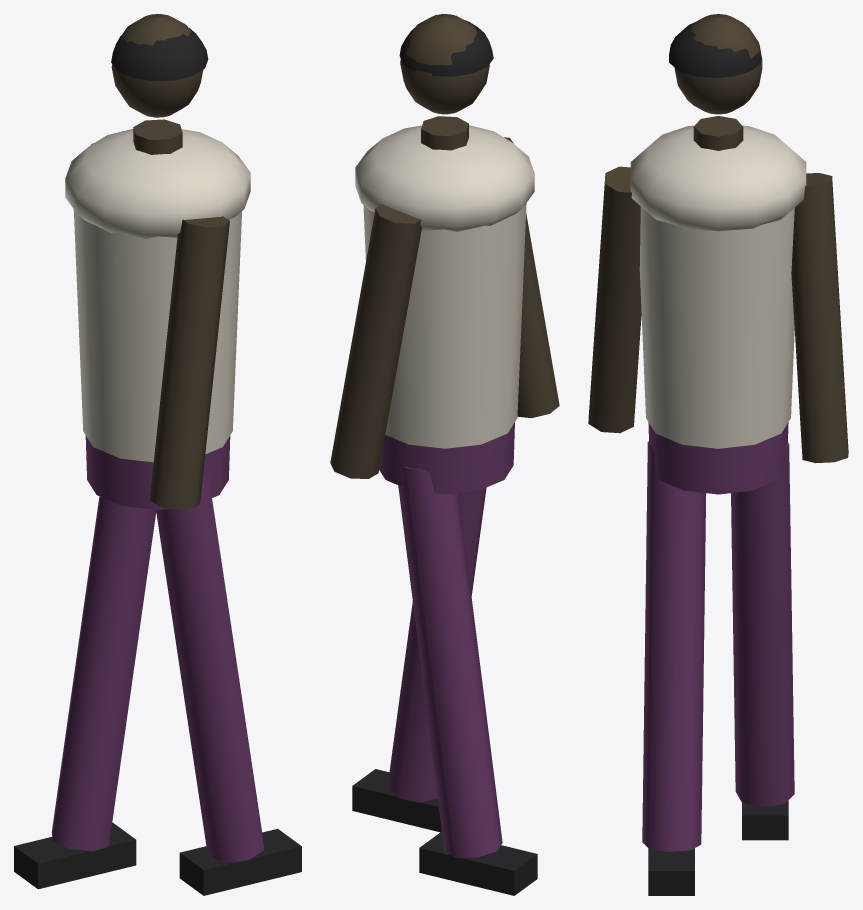
The model's file is KIT_FIGURE_2.glb.
The picture shows the model from 3 angles, left to right: view 1: azimuth 30°, elevation 25°; view 2: azimuth 150°, elevation 25°; view 3: azimuth 270°, elevation 25°; orthographic projection. The views are drawn at different scales.
Visible parts, largest first — view 1: KIT_FIGURE_2; view 2: KIT_FIGURE_2; view 3: KIT_FIGURE_2.
Part boxes in pixels (x1,y1,x2,y2): KIT_FIGURE_2: (14,14,301,895); KIT_FIGURE_2: (330,14,559,895); KIT_FIGURE_2: (588,14,848,895).
Bounding box in the file's own units: 0.4392 × 1.66 × 0.474.
